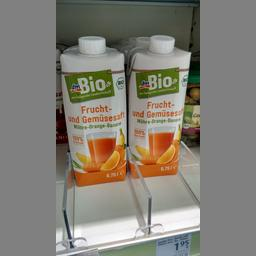juice: (58, 34, 127, 185), (127, 33, 191, 177)
